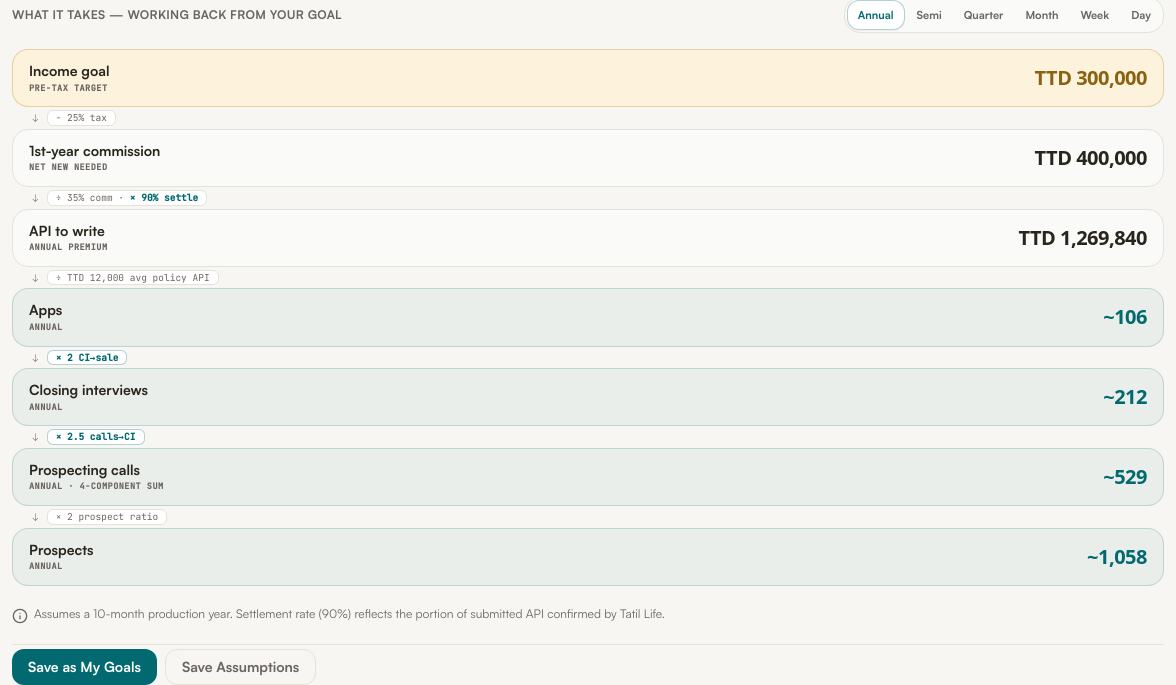
it: GoalDecompositionTab — D5 parked RTL baseline › confirm dialog shows current goal and new computed API
The width and height of the screenshot is (1176, 685).
(page scrolled)
Click the button with test id "commission-save-goal-btn".
click(84, 667)  # box 12,649 -> 157,684
(page scrolled)
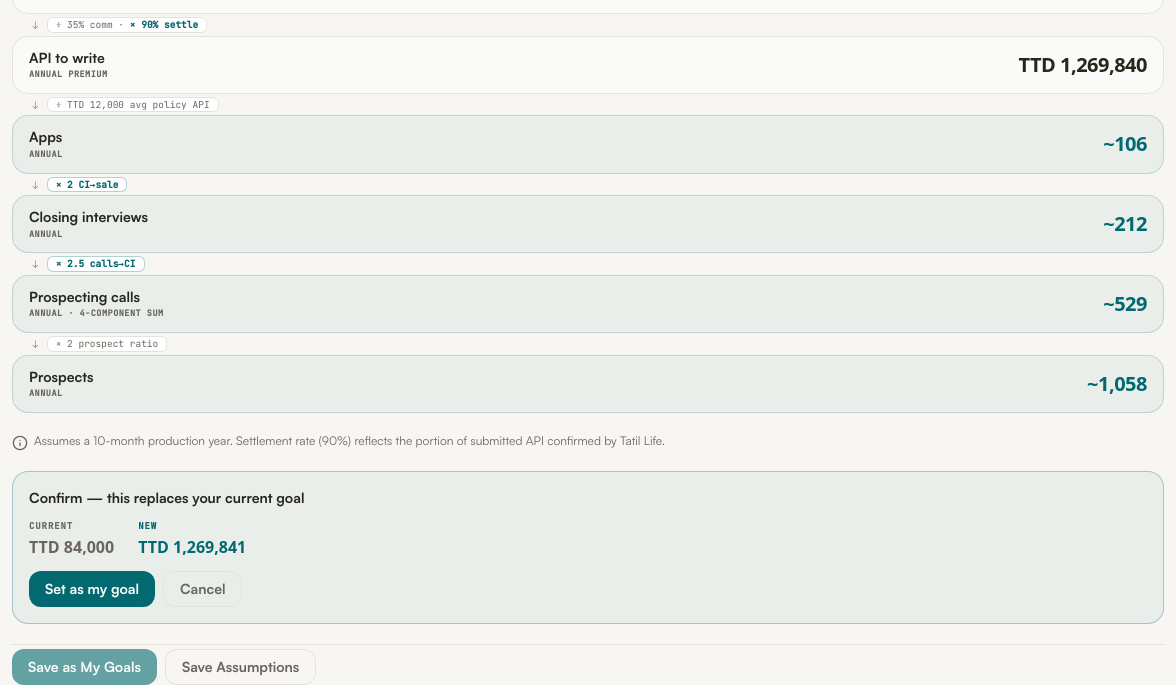
Now the text with test id "commission-confirm-current" shows "84", box 29,536 -> 114,558
Now the text with test id "commission-confirm-new" reads "TTD 1,269,841", box 138,535 -> 246,559
